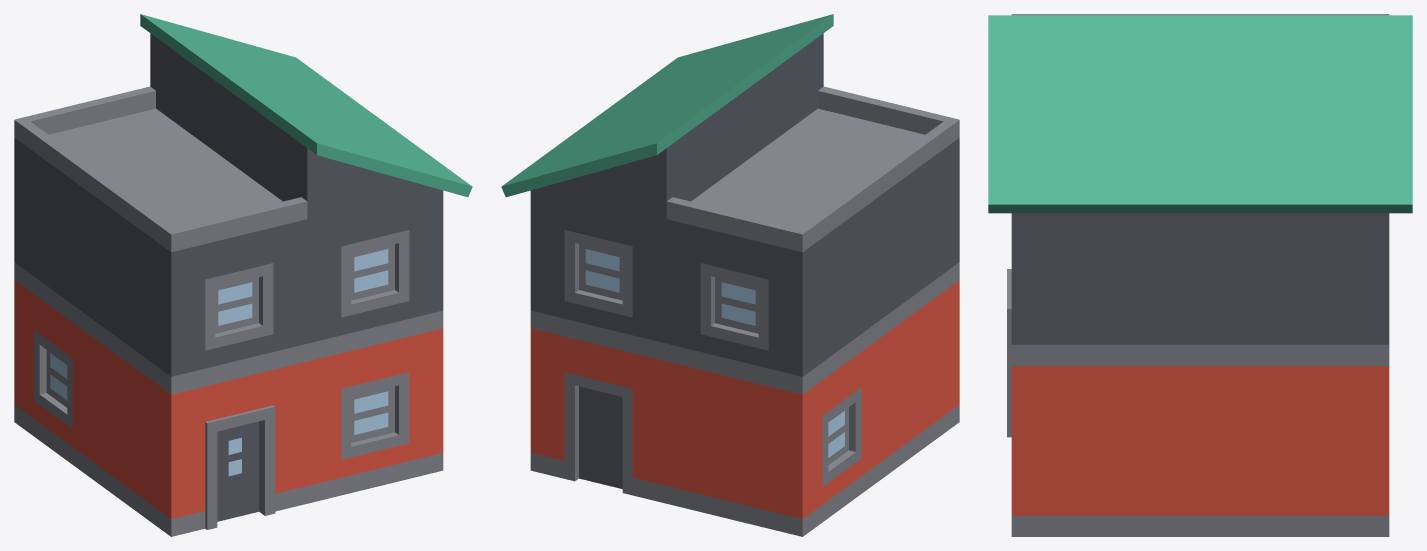
File: house_type21.001.obj
3 views of the same model, side by side, from view 1: azimuth 30°, elevation 25°; view 2: azimuth 150°, elevation 25°; view 3: azimuth 270°, elevation 25° (orthographic). The views are drawn at different scales.
Visible parts, largest first — view 1: house_type21.001; view 2: house_type21.001; view 3: house_type21.001.
Part boxes in pixels (x1,y1,x2,y2): house_type21.001: (14,14,472,536); house_type21.001: (501,14,959,536); house_type21.001: (988,14,1412,536).
Size of the model in its own units: 0.9964 by 1.2 by 1.04.
